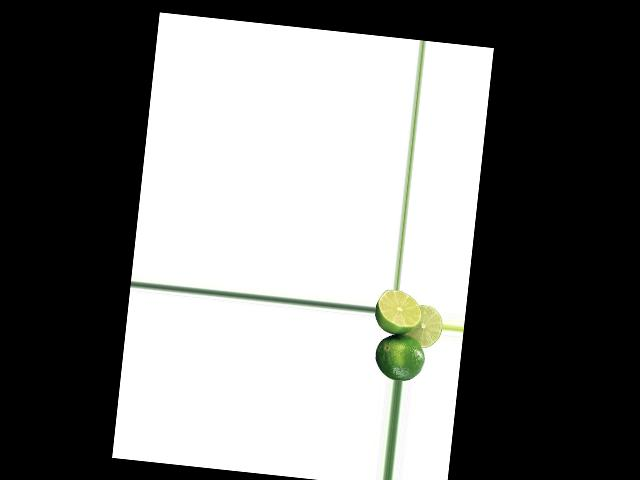lemon: (374, 329, 426, 382)
